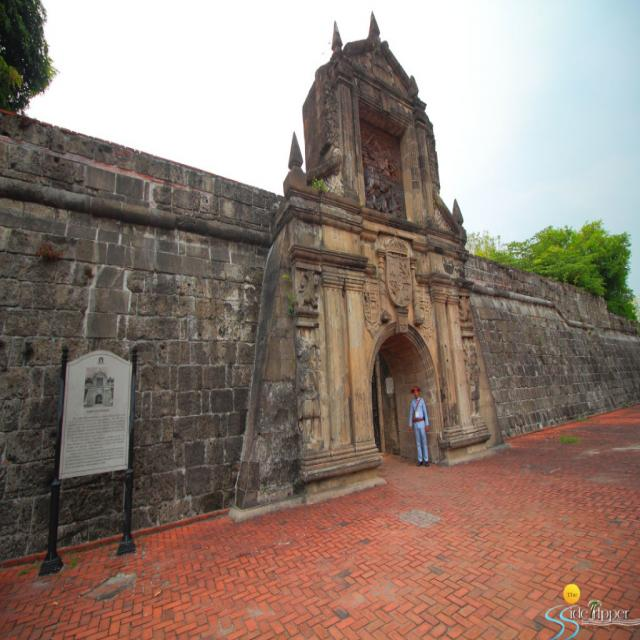Fort Santiago: (2, 5, 638, 640)
